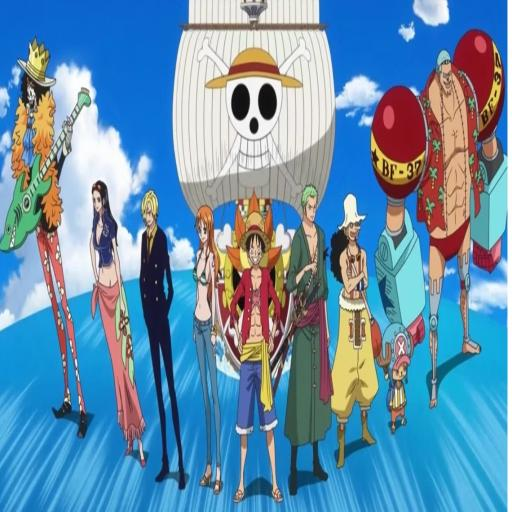Luffy: (226, 216, 286, 508)
Nami: (182, 190, 232, 496)
NicoRobin: (83, 173, 143, 486)
Usopp: (326, 180, 380, 474)
Zoro: (286, 182, 336, 488)
sanji: (130, 170, 185, 495)
